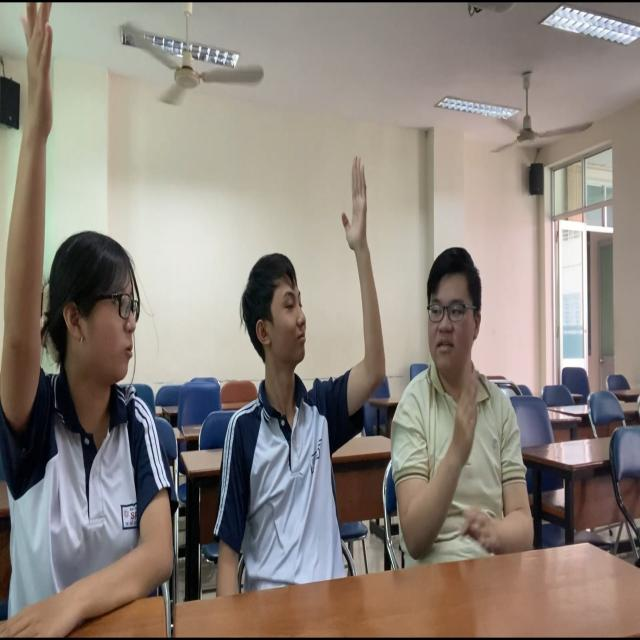raise_hand: (6, 1, 182, 640), (216, 141, 401, 585)
